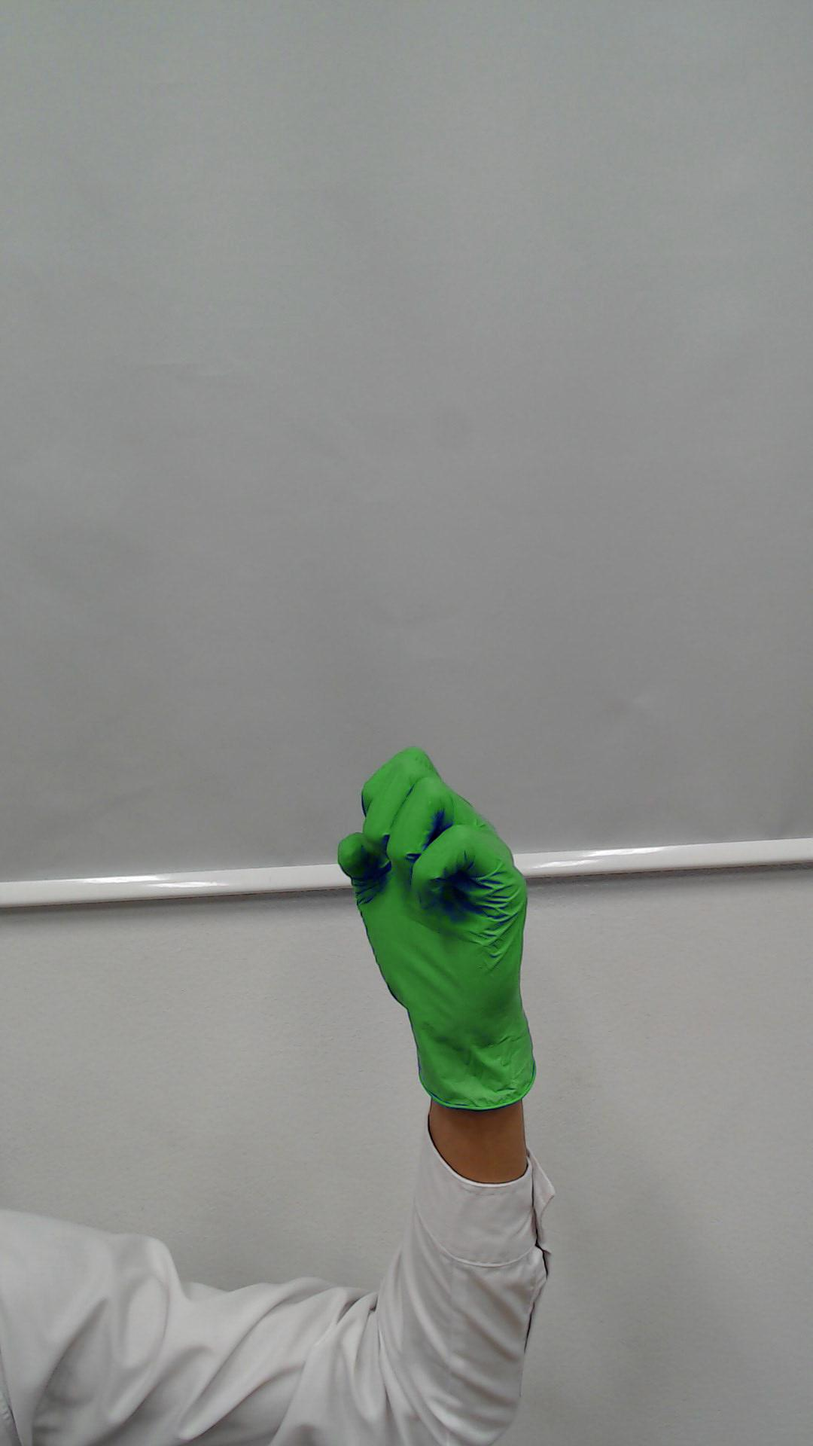gloves: (333, 738, 546, 1028)
